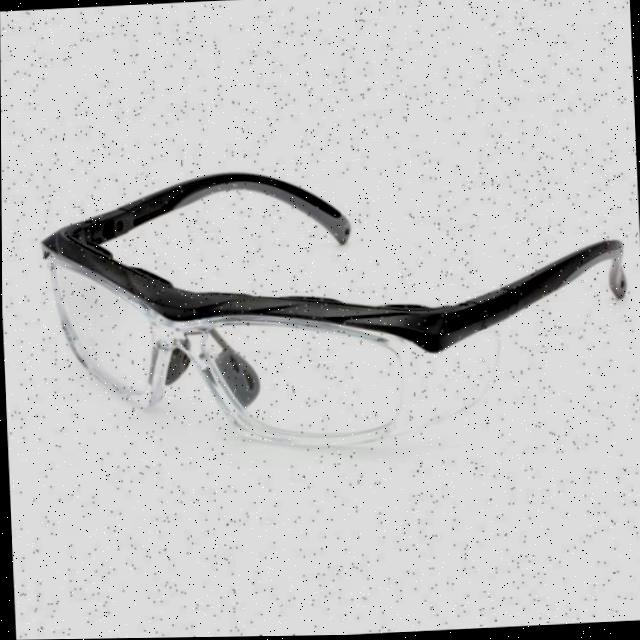goggles_on: (22, 148, 640, 471)
